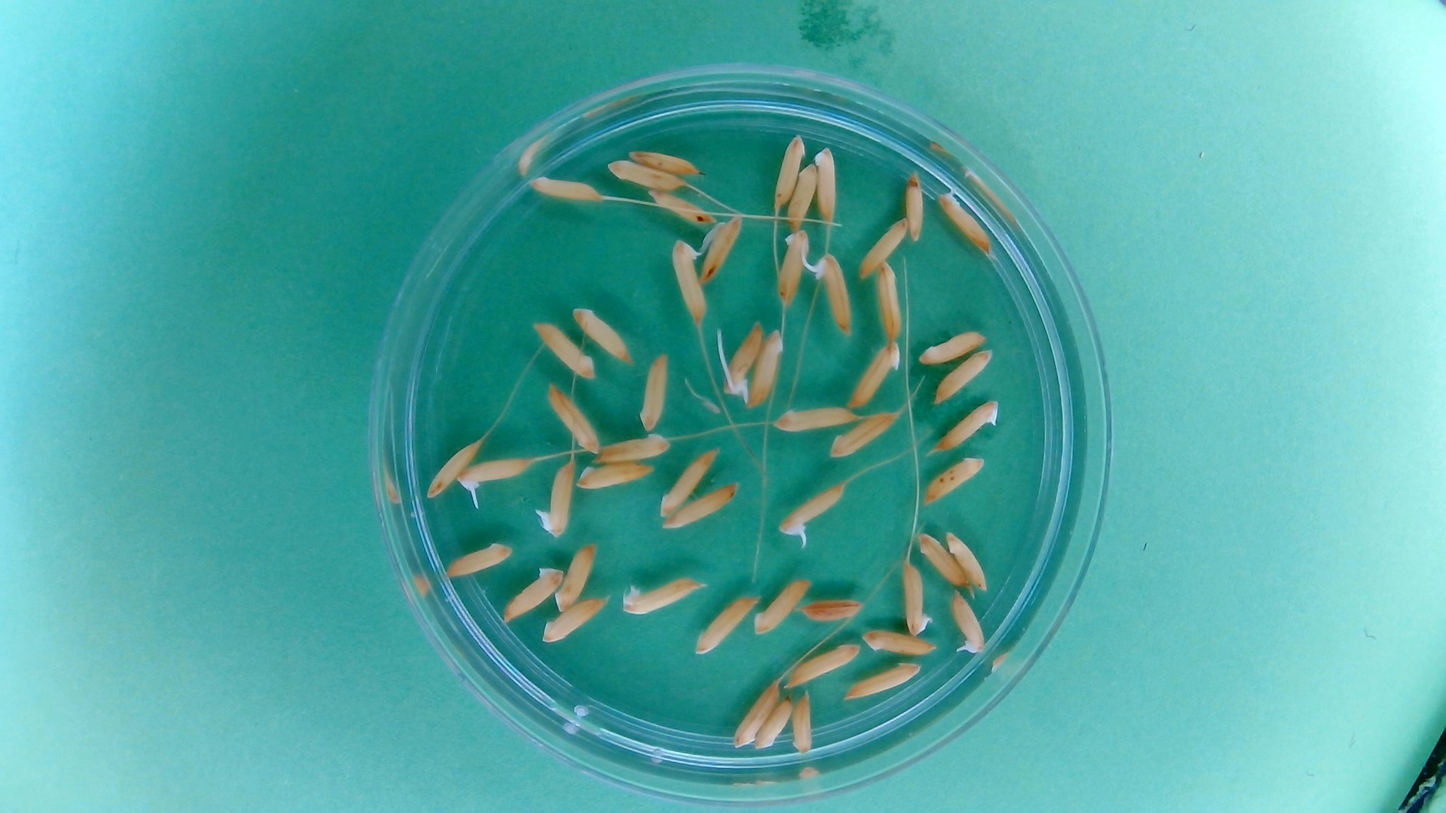no: (657, 446, 719, 519), (693, 592, 759, 657), (935, 187, 995, 258), (531, 318, 598, 381), (544, 380, 599, 454), (661, 480, 740, 531), (847, 339, 903, 410), (729, 676, 782, 750), (571, 302, 634, 364), (931, 397, 1002, 452), (499, 564, 564, 624), (782, 641, 862, 689), (931, 347, 996, 406), (751, 574, 812, 636), (826, 408, 899, 459), (425, 437, 482, 500), (920, 454, 987, 507), (620, 575, 705, 616), (697, 212, 744, 285), (842, 660, 923, 702), (856, 215, 908, 279), (540, 596, 609, 644), (554, 539, 599, 612), (746, 328, 786, 409), (914, 530, 968, 589), (670, 236, 707, 322), (942, 527, 989, 592), (773, 227, 811, 306), (917, 327, 990, 367), (636, 350, 671, 431), (770, 132, 807, 207), (603, 158, 683, 192), (593, 431, 673, 465), (772, 403, 859, 434), (444, 540, 513, 578), (575, 459, 655, 491), (525, 172, 604, 204), (875, 258, 905, 341), (753, 693, 795, 751), (648, 189, 716, 224), (784, 163, 818, 232), (860, 628, 938, 658), (813, 144, 840, 224), (902, 561, 932, 633), (630, 147, 703, 175), (902, 169, 928, 245), (798, 596, 865, 625), (789, 690, 816, 756)
yes: (778, 481, 848, 538), (810, 251, 854, 334), (721, 319, 763, 396), (537, 457, 575, 538), (458, 455, 530, 492), (948, 588, 987, 656)
